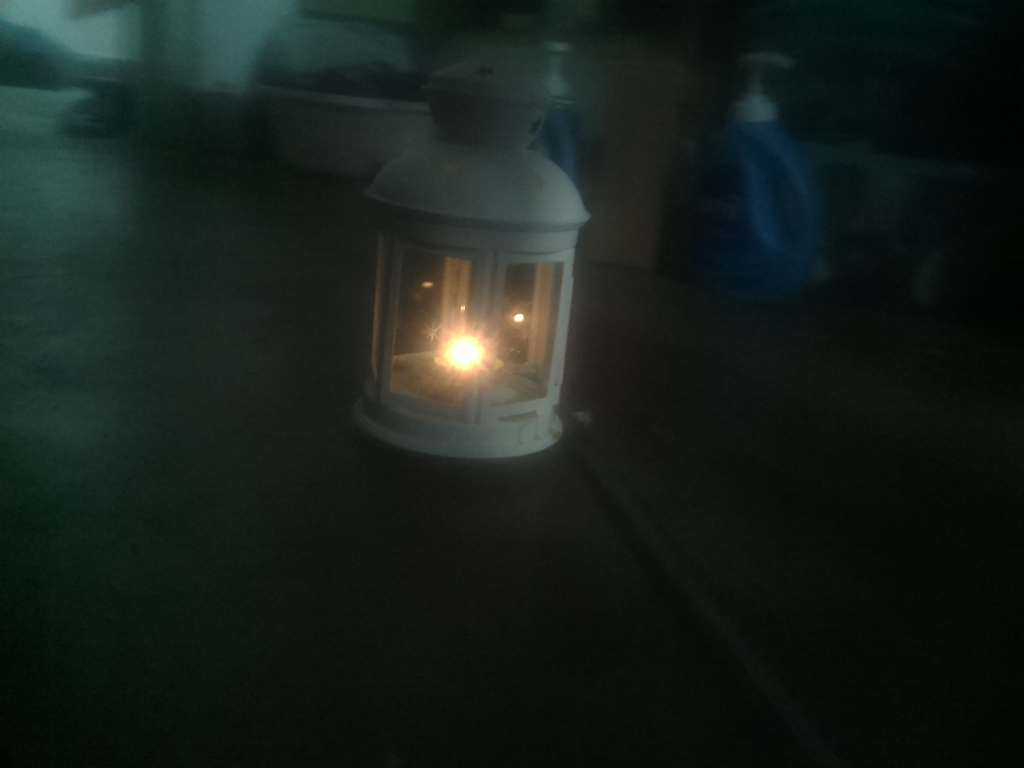fire: (414, 307, 501, 394)
